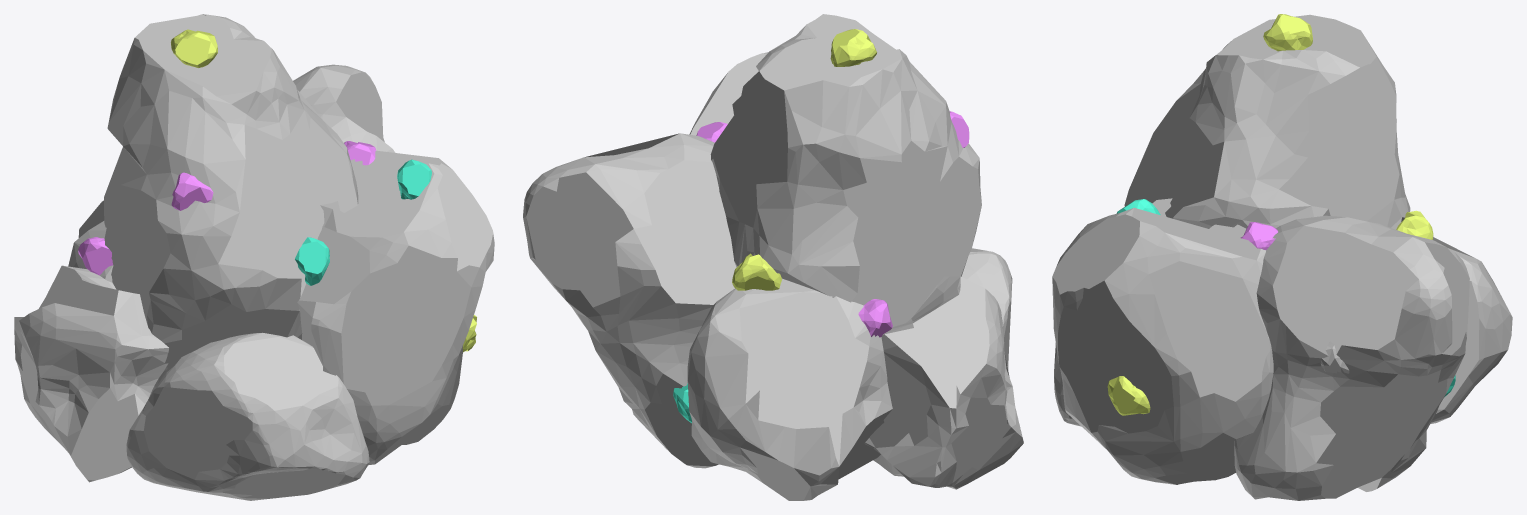
Rendered from Collectable.fbx.
3 renders of one model, left to right at view 1: azimuth 30°, elevation 25°; view 2: azimuth 150°, elevation 25°; view 3: azimuth 270°, elevation 25°, orthographic. The views are drawn at different scales.
Parts seen in each view (by area): view 1: Collectable; view 2: Collectable; view 3: Collectable.
Part boxes in pixels (box(x1,y1,x2,y2)): Collectable: box(14, 14, 494, 500); Collectable: box(523, 14, 1023, 500); Collectable: box(1052, 14, 1512, 500).
Size of the model in its own units: 444 by 445 by 439.
